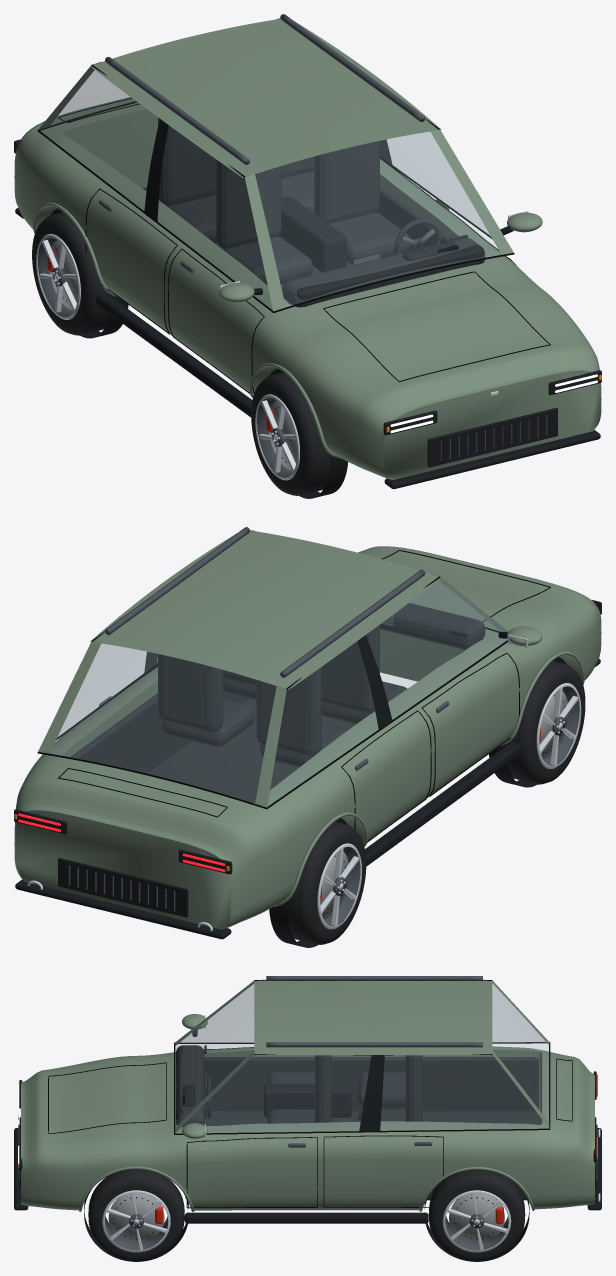
File: suv.glb
3 renders of one model, top to bottom at view 1: azimuth 30°, elevation 25°; view 2: azimuth 150°, elevation 25°; view 3: azimuth 270°, elevation 25°, orthographic. The views are drawn at different scales.
Visible parts, largest first — view 1: Sculpted body shell.003, Painted roof.003, Windshield.003, Side glass.006, Interior dashboard.003, Interior seat back.011, Tire.014, Interior seat back.010, Tire.012, Side glass.007, Front grille housing.003, Interior seat back.012 (+24 smaller); view 2: Sculpted body shell.003, Painted roof.003, Rear glass.003, Side glass.006, Interior cabin floor.003, Interior door card.007, Interior seat back.013, Tire.012, Interior seat back.012, Tire.014, Rear diffuser grille.003, Side glass.007 (+28 smaller); view 3: Sculpted body shell.003, Side glass.007, Painted roof.003, Interior door card.006, Windshield.003, Rear glass.003, Tire.015, Tire.013, Side glass.006, Rocker aero sill.007, Interior cabin floor.003, Interior centre console.003 (+25 smaller).
Boxes of the visible parts, x1,y1,x2,y2 form: Sculpted body shell.003: (14,97,601,479); Painted roof.003: (98,19,432,175); Windshield.003: (255,132,500,306); Side glass.006: (39,67,272,309); Interior dashboard.003: (282,238,485,307); Interior seat back.011: (314,141,379,223); Tire.014: (251,372,329,495); Interior seat back.010: (216,159,281,248); Tire.012: (32,212,110,335); Side glass.007: (380,132,488,234); Front grille housing.003: (427,407,557,467); Interior seat back.012: (158,117,216,206); Sculpted body shell.003: (14,546,601,929); Painted roof.003: (98,530,433,686); Rear glass.003: (50,644,276,803); Side glass.006: (268,579,507,805); Interior cabin floor.003: (147,698,355,802); Interior door card.007: (70,691,249,773); Interior seat back.013: (158,654,223,732); Tire.012: (287,821,366,944); Interior seat back.012: (256,667,321,756); Tire.014: (506,661,585,784); Rear diffuser grille.003: (58,858,188,917); Side glass.007: (58,644,157,736); Sculpted body shell.003: (21,1046,594,1210); Side glass.007: (176,1055,547,1133); Painted roof.003: (254,981,492,1054); Interior door card.006: (204,1057,538,1111); Windshield.003: (175,984,253,1126); Rear glass.003: (492,984,548,1121); Tire.015: (88,1169,184,1261); Tire.013: (428,1169,525,1261); Side glass.006: (180,984,544,1042); Rocker aero sill.007: (184,1212,428,1223); Interior cabin floor.003: (204,1111,541,1126); Interior centre console.003: (264,1083,351,1117).
Bounding box in the file's own units: 2.41 × 1.91 × 4.94.
